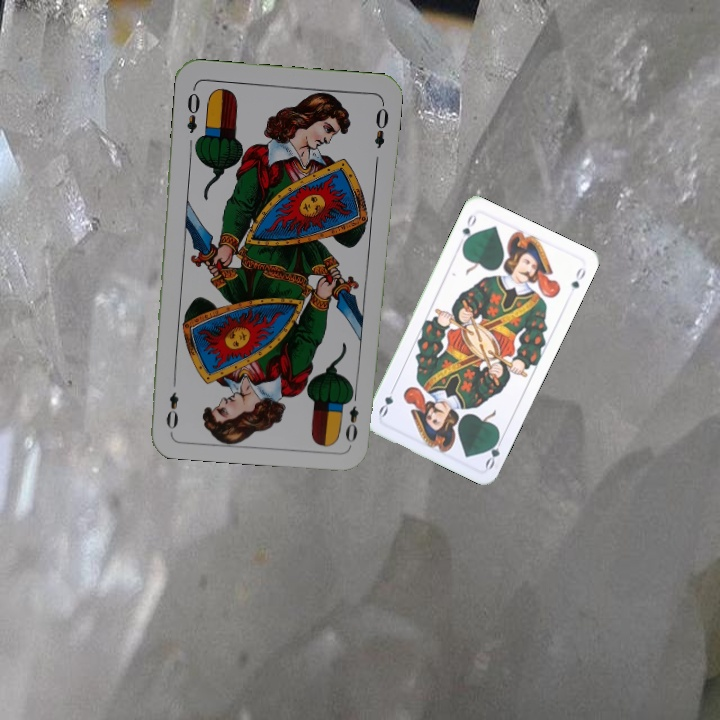EO: (341, 387, 361, 445), (182, 83, 203, 136)
GO: (481, 431, 506, 471), (458, 209, 479, 249)
